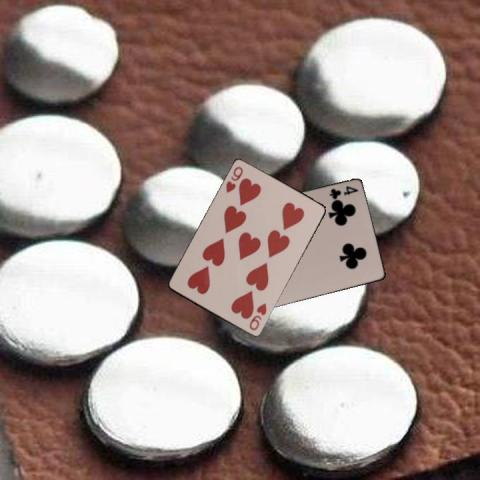4c: (327, 183, 359, 201)
9h: (222, 163, 244, 195), (246, 301, 268, 332)
